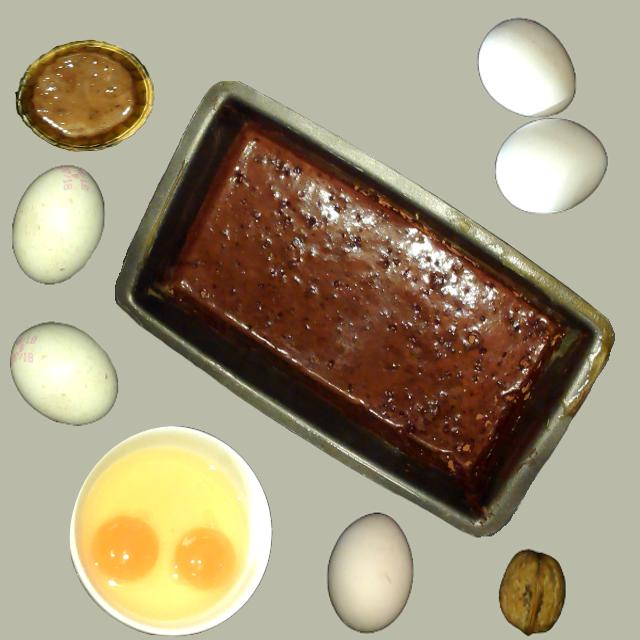Egg: (91, 516, 159, 582)
Sugar: (69, 427, 265, 634)
